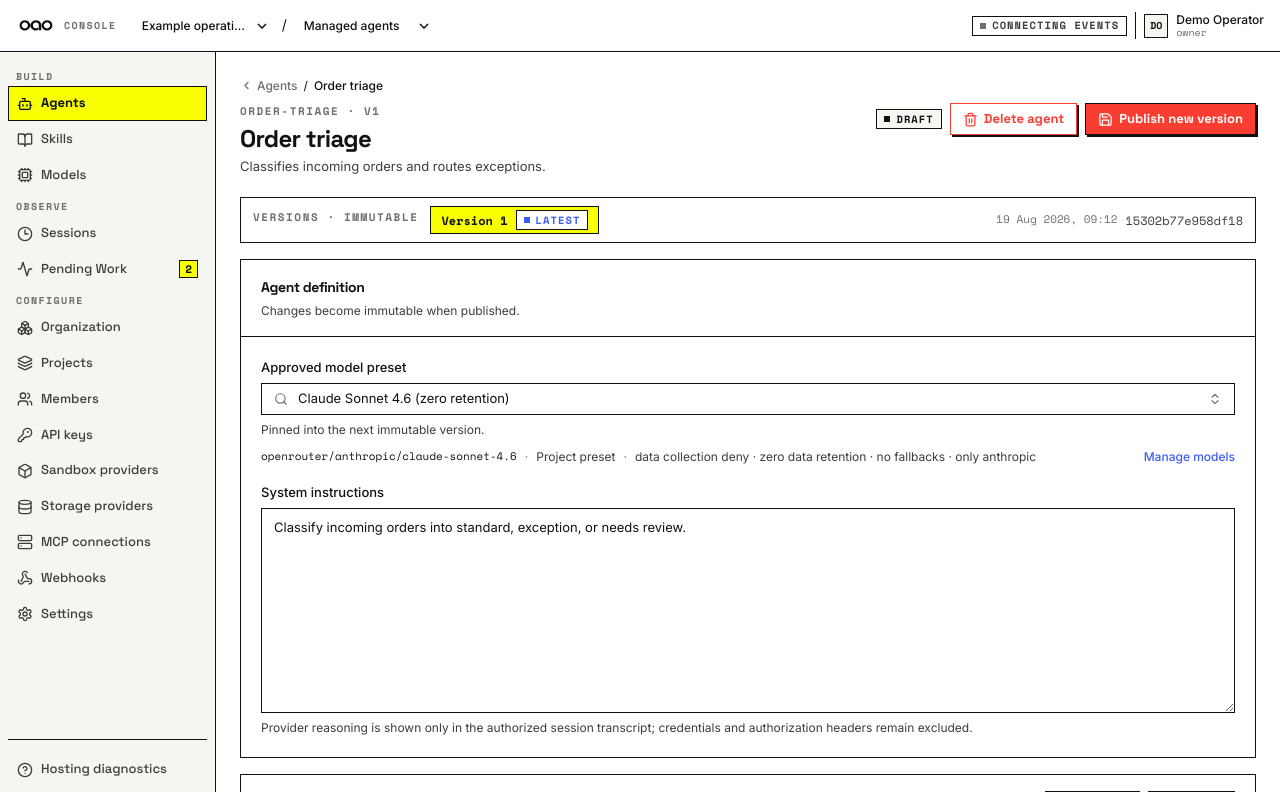
Scenario: management console › deletes an agent from its detail page and returns to the list
Expected: the heading "Order triage" is shown, [240,123,371,154]
Cancelling leaves the agent untouched.
Click the button "Delete agent" at (1013, 119), box [950,103,1077,135]
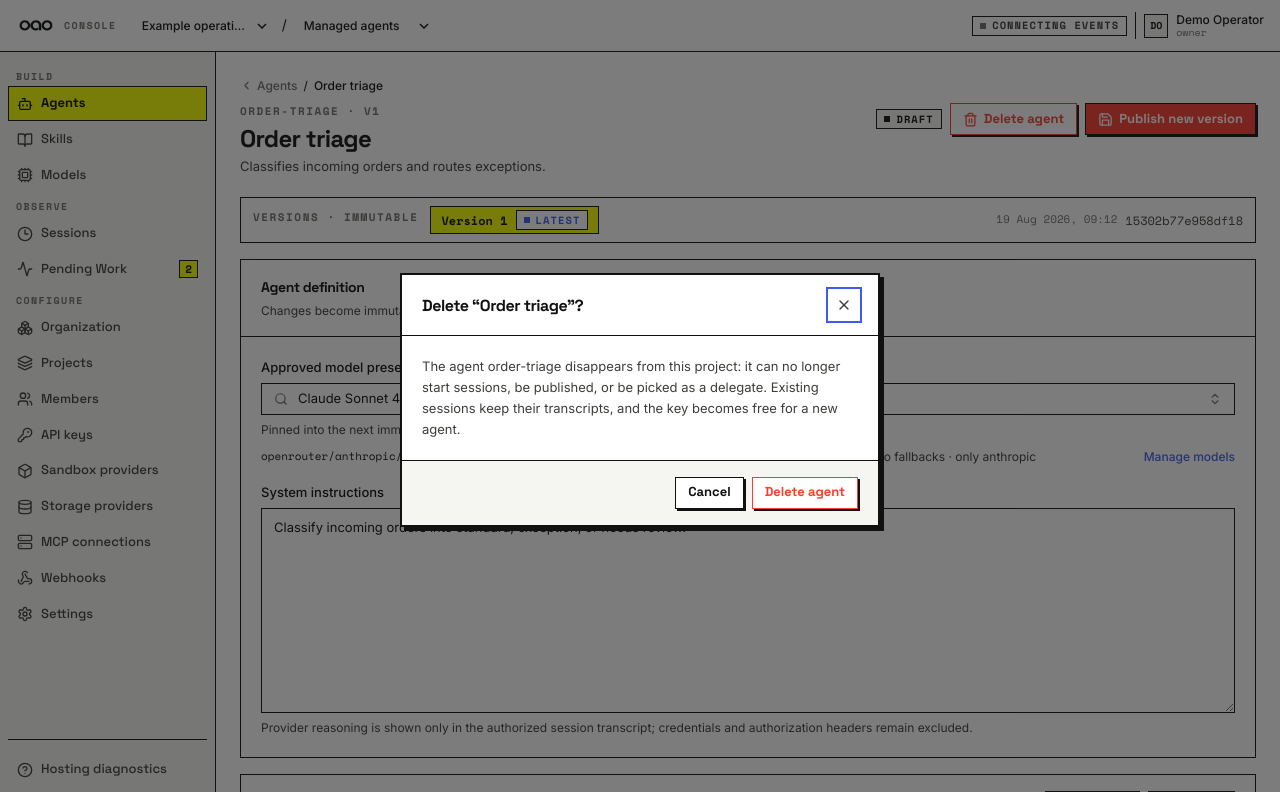
Click the button "Cancel" at (709, 493), box [675,477,744,509]
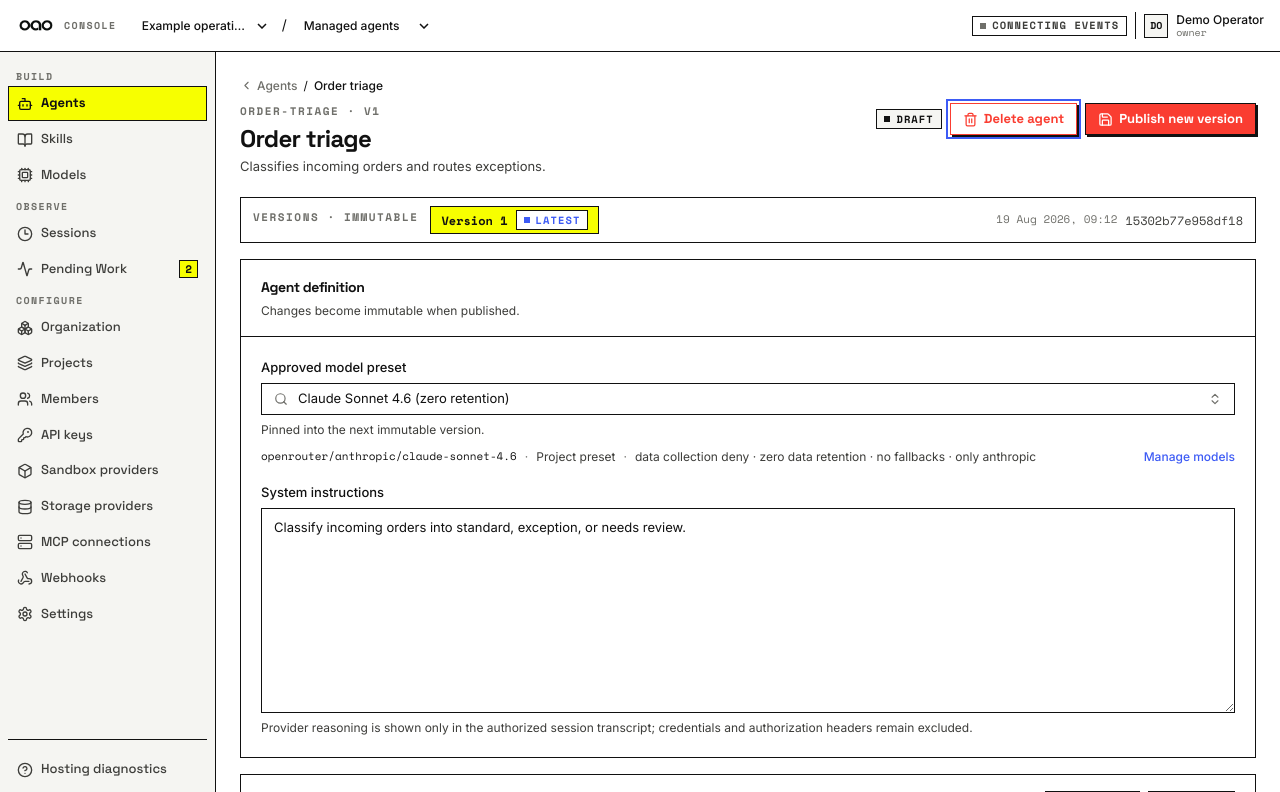
Expected: the heading "Delete “Order triage”?" is gone
Click the button "Delete agent" at (1013, 119), box [950,103,1077,135]
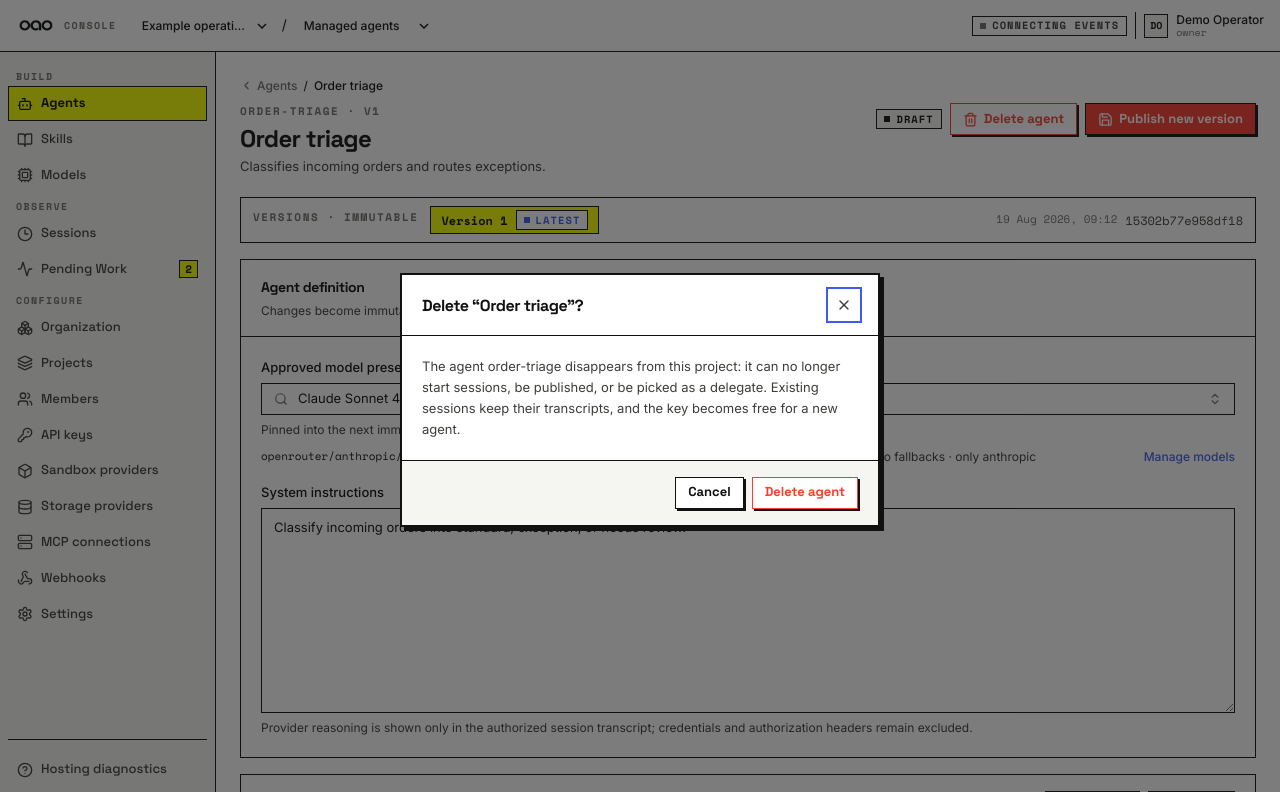
Click the button "Delete agent" at (805, 493), box [752,477,858,509]
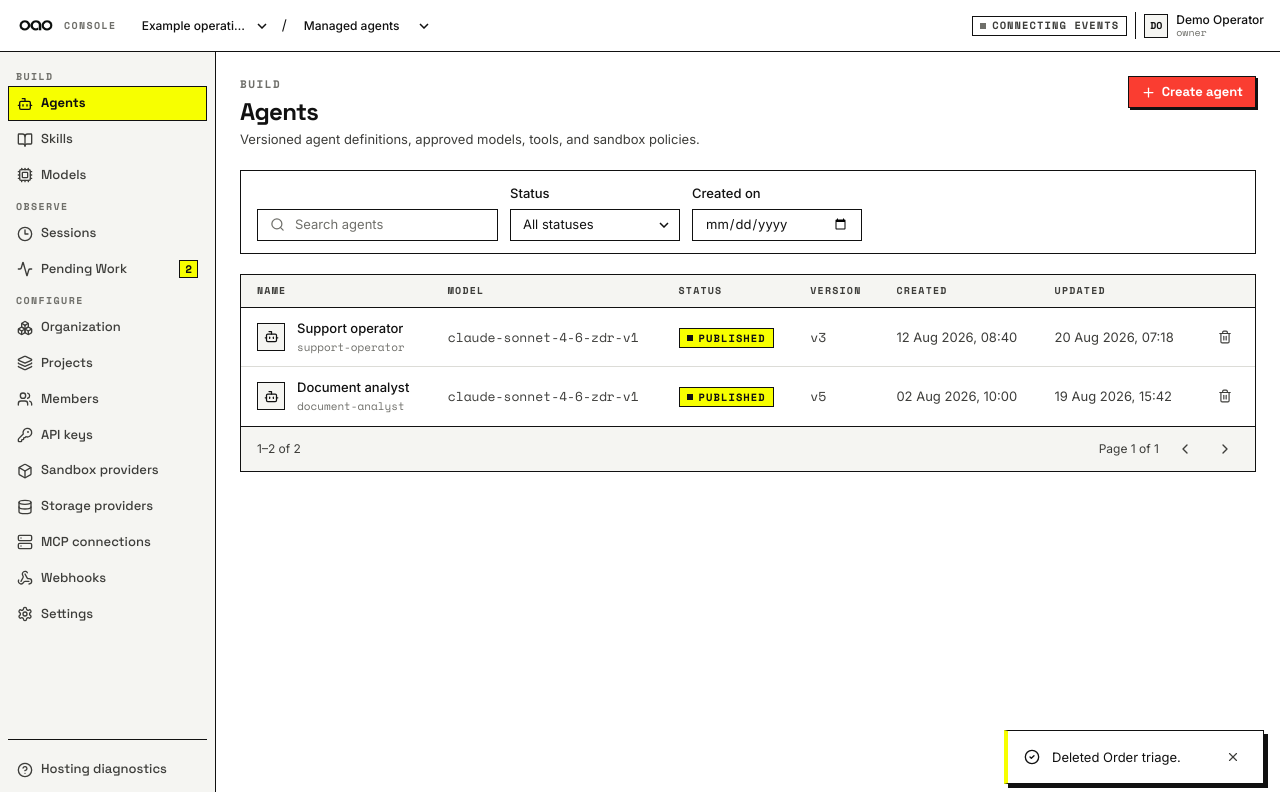
Expected: the heading "Agents" is shown, [240,96,318,127]
